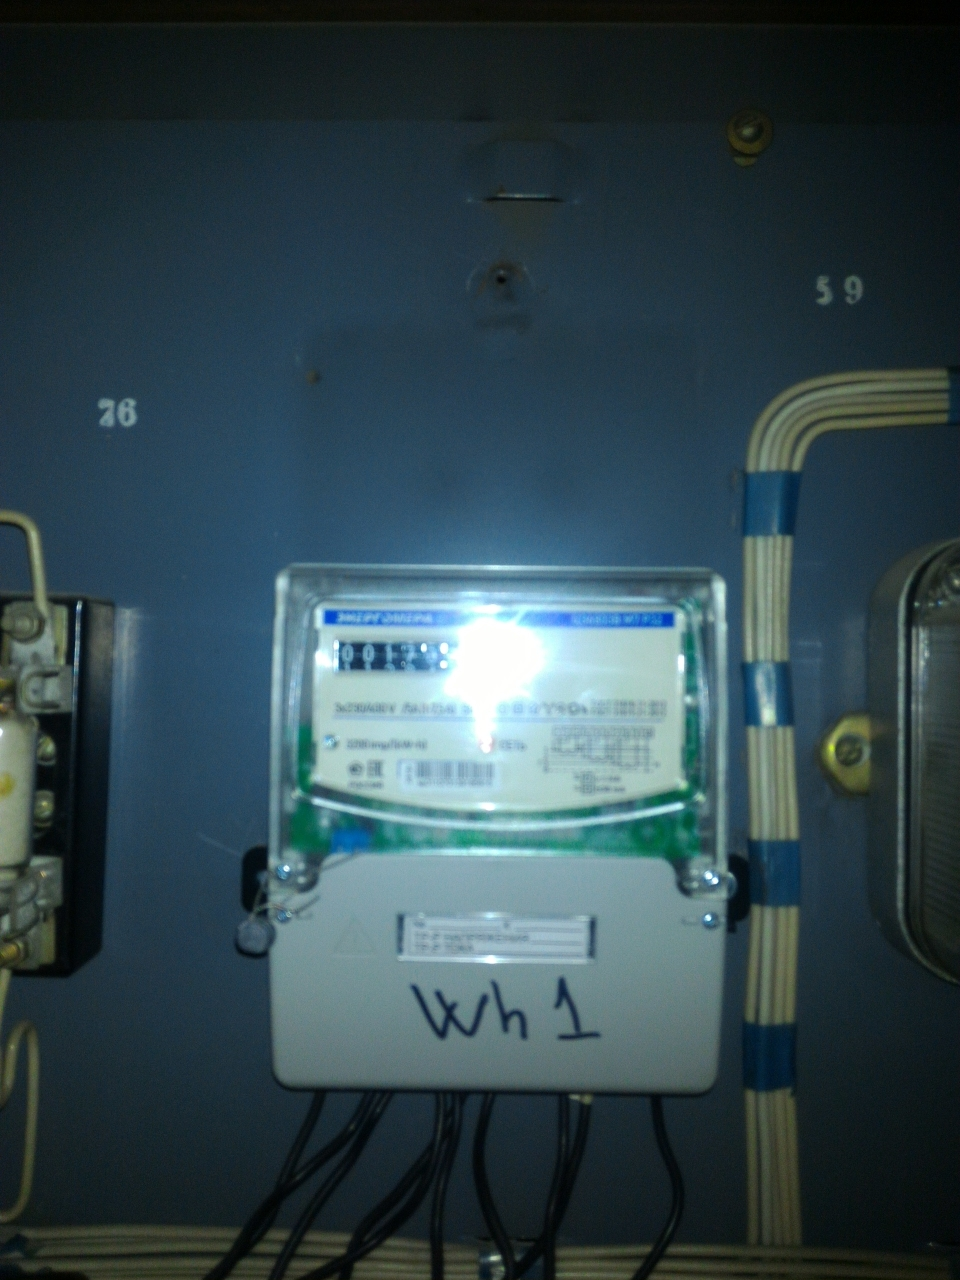0: (360, 643, 376, 664), (340, 643, 355, 664)
1: (382, 643, 394, 664)
screen: (330, 636, 468, 676)
x: (401, 643, 418, 664)
